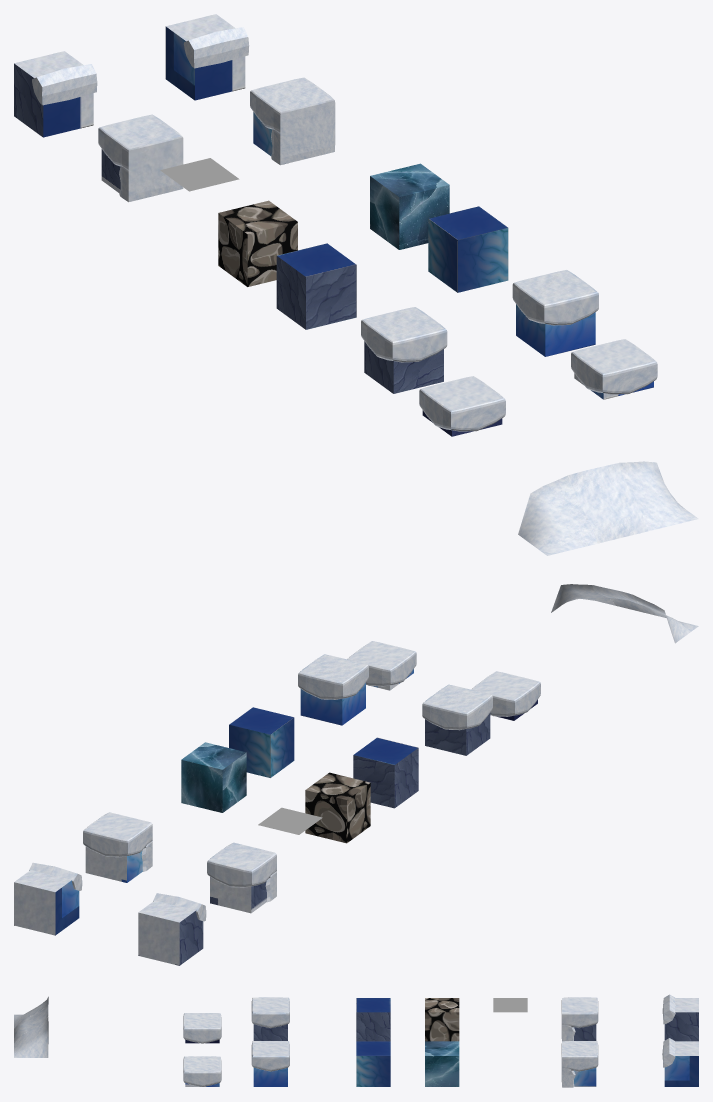
File: Ugly Tileset.glb
3 renders of one model, top to bottom at view 1: azimuth 30°, elevation 25°; view 2: azimuth 150°, elevation 25°; view 3: azimuth 270°, elevation 25°, orthographic. The views are drawn at different scales.
Visible parts, largest first — view 1: Ice TL, Stone with snow, Ice with snow, Ice OL, Stone OL, Stone TL, Ice, Stone, Ice Break, Stone Break, Snow Left, Snow Mid (+4 smaller); view 2: Ice TL, Ice with snow, Stone with snow, Stone TL, Stone OL, Ice OL, Ice Break, Stone Break, Stone, Ice, Ice halb, Stone halb (+4 smaller); view 3: Ice with snow, Ice TL, Ice OL, Stone with snow, Stone TL, Ice Break, Ice, Stone OL, Stone, Stone Break, Stone halb, Ice halb (+4 smaller).
Boxes of the visible parts, box(x1,y1,x2,y2) form: Ice TL: box(250, 77, 335, 165); Stone with snow: box(361, 307, 447, 393); Ice with snow: box(512, 270, 598, 356); Ice OL: box(165, 14, 249, 100); Stone OL: box(14, 51, 97, 137); Stone TL: box(98, 114, 183, 202); Ice: box(428, 206, 508, 292); Stone: box(276, 243, 356, 329); Ice Break: box(370, 163, 449, 249); Stone Break: box(218, 200, 297, 286); Snow Left: box(518, 475, 597, 555); Snow Mid: box(568, 463, 647, 543); Ice TL: box(83, 812, 152, 882); Ice with snow: box(298, 654, 368, 725); Stone with snow: box(422, 684, 492, 755); Stone TL: box(207, 842, 276, 913); Stone OL: box(138, 893, 206, 965); Ice OL: box(14, 862, 82, 935); Ice Break: box(181, 742, 246, 812); Stone Break: box(305, 772, 370, 843); Stone: box(353, 737, 418, 808); Ice: box(229, 707, 294, 777); Ice halb: box(347, 641, 416, 690); Stone halb: box(471, 671, 540, 720); Ice with snow: box(251, 1041, 289, 1086); Ice TL: box(561, 1041, 598, 1087); Ice OL: box(662, 1038, 698, 1086); Stone with snow: box(251, 997, 289, 1040); Stone TL: box(561, 997, 598, 1041); Ice Break: box(425, 1041, 459, 1086); Ice: box(356, 1041, 390, 1086); Stone OL: box(662, 994, 698, 1041); Stone: box(356, 998, 390, 1041); Stone Break: box(425, 998, 459, 1041); Stone halb: box(183, 1013, 221, 1043); Ice halb: box(183, 1056, 221, 1086).
Size of the model in its own units: 5.06 by 1.14 by 20.
Materials: 13 (12 with a texture image).
